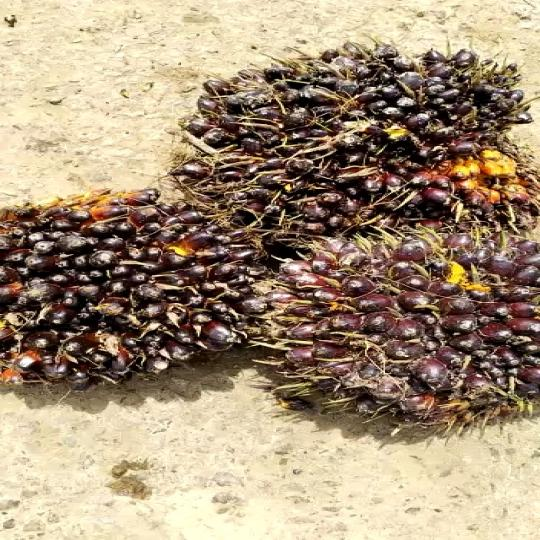mentah: (0, 163, 306, 406), (250, 222, 540, 456), (159, 56, 490, 205)
